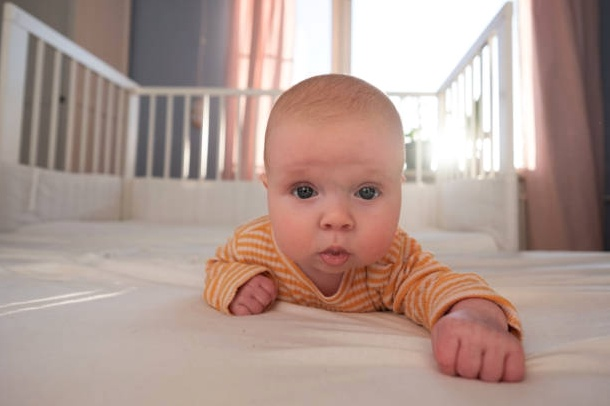baby: (204, 74, 524, 380)
crib: (0, 4, 609, 404)
